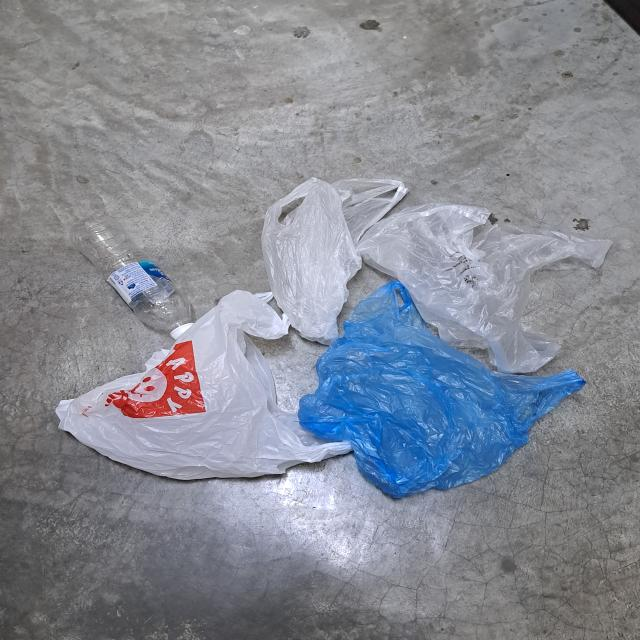plastic bag: (306, 288, 573, 499), (58, 294, 346, 475), (378, 200, 614, 374), (261, 169, 400, 340)
plastic bottle: (71, 215, 189, 330)
plastic bottle cap: (167, 319, 192, 337)
